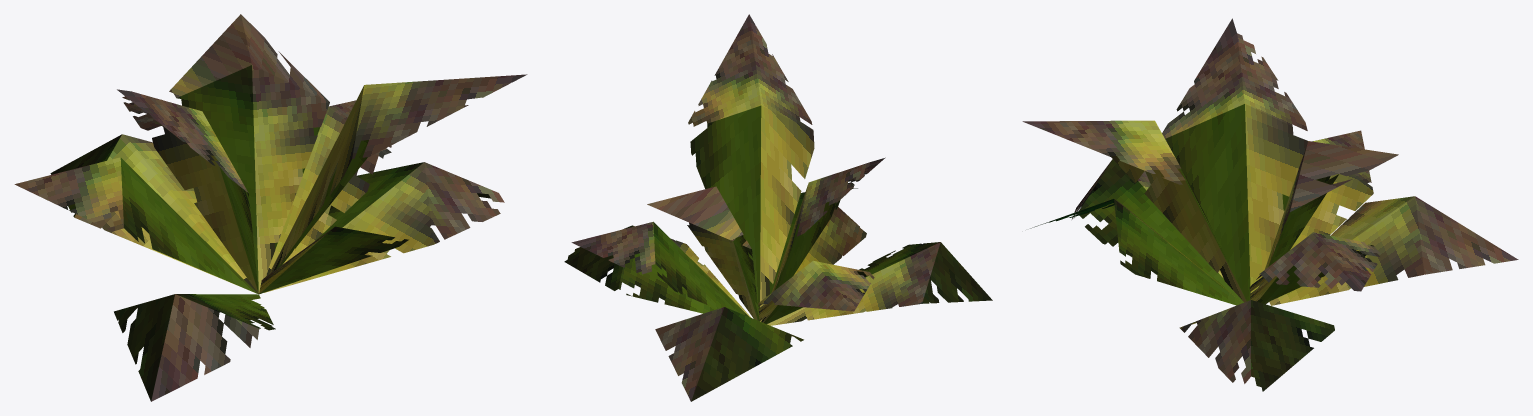
File: bush_1.glb
The picture shows the model from 3 angles, left to right: view 1: azimuth 30°, elevation 25°; view 2: azimuth 150°, elevation 25°; view 3: azimuth 270°, elevation 25°; orthographic projection. The views are drawn at different scales.
Visible parts, largest first — view 1: Object; view 2: Object; view 3: Object.
Part boxes in pixels (x1,y1,x2,y2): Object: [14, 14, 527, 401]; Object: [564, 14, 992, 401]; Object: [1022, 18, 1518, 391].
Bounding box in the file's own units: 2.66 × 1.51 × 2.71.
7 materials, 7 textured.
